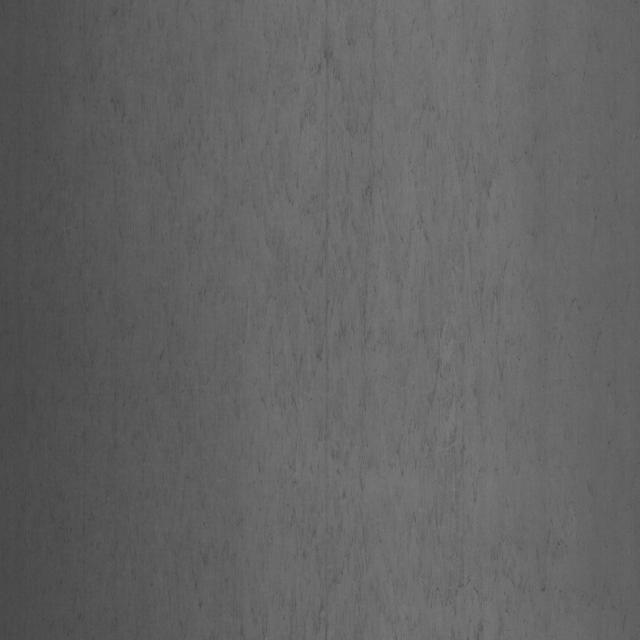inclusion: (189, 26, 556, 580)
